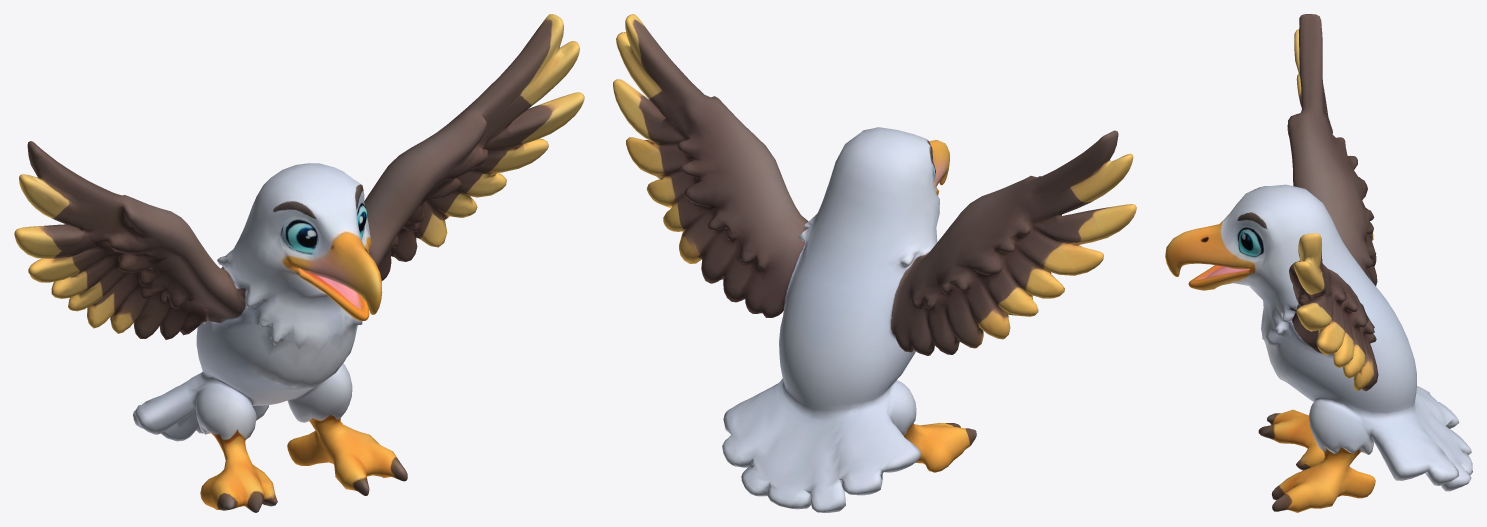
The model's file is adler.glb.
The picture shows the model from 3 angles, left to right: view 1: azimuth 30°, elevation 25°; view 2: azimuth 150°, elevation 25°; view 3: azimuth 270°, elevation 25°; orthographic projection. The views are drawn at different scales.
Parts seen in each view (by area): view 1: model; view 2: model; view 3: model.
Part boxes in pixels (left/top/right/bottom): model: left=14, top=14, right=584, bottom=512; model: left=613, top=14, right=1136, bottom=512; model: left=1165, top=14, right=1472, bottom=512.
Size of the model in its own units: 1.9 by 1.33 by 1.04.
Materials: 1 (1 with a texture image).
